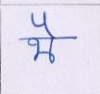ai_matra: (31, 12, 57, 37)
